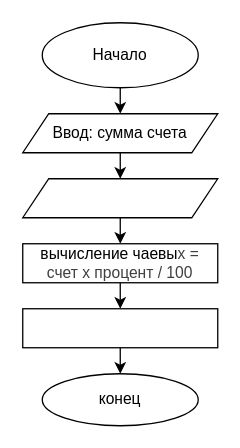
The diagram is 240 pixels wide and 448 high, and some of its shapes have lost their labels. Each missing label, with the centre of its shape:
"Ввод: процент чаевых" goes at pixel 119 197.
"вычисление итого = счет + чаевые" goes at pixel 119 327.
